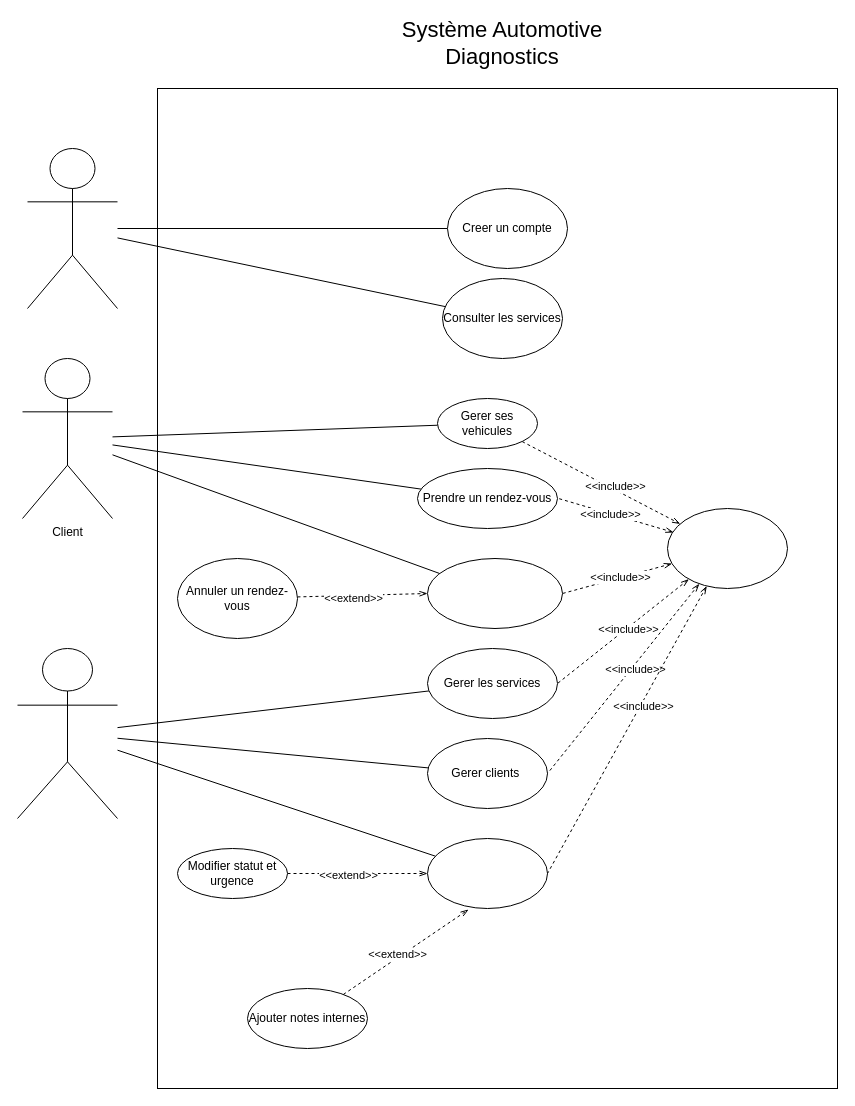
The diagram is 855 pixels wide and 1106 high, and some of its shapes have lost their labels. Here are the shapes that lost their labels. From the top down, the centre of each, then its label:
[72,228]: Visiteur
[727,548]: Authentifier
[494,593]: Consulter ses rendez-vous
[67,733]: Admin
[487,873]: Gerer tous les rendez-vous
